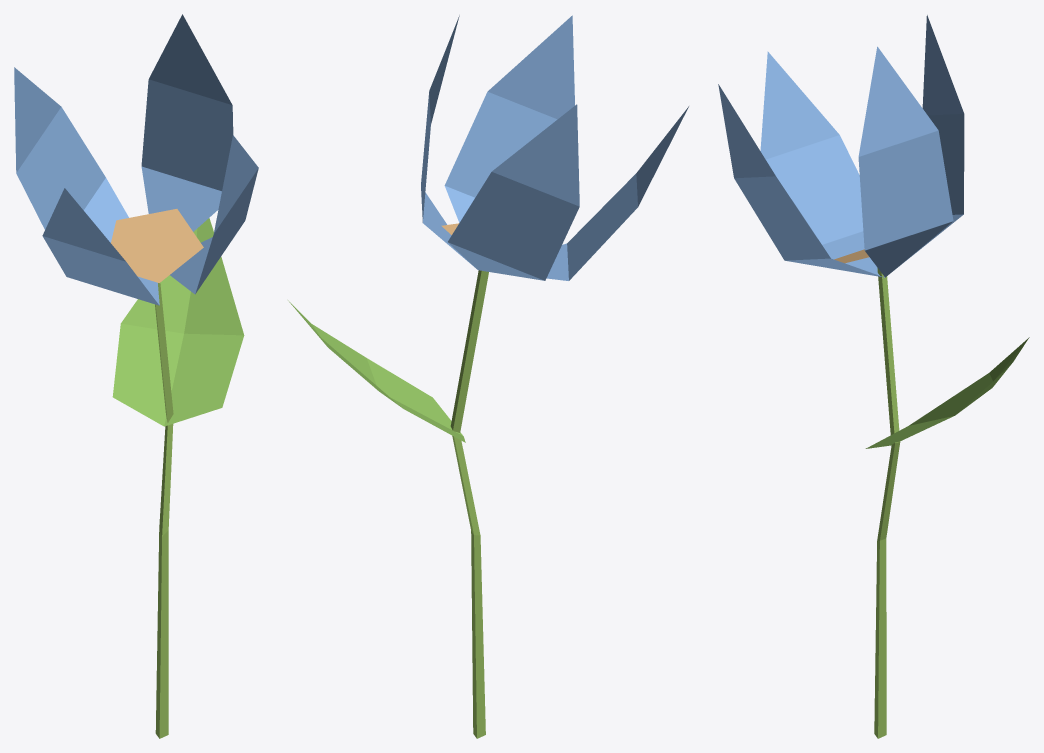
The model's file is Flower_a_OneS_07.fbx.
The picture shows the model from 3 angles, left to right: view 1: azimuth 30°, elevation 25°; view 2: azimuth 150°, elevation 25°; view 3: azimuth 270°, elevation 25°; orthographic projection. The views are drawn at different scales.
Parts seen in each view (by area): view 1: Flower_a_OneS_07; view 2: Flower_a_OneS_07; view 3: Flower_a_OneS_07.
Part boxes in pixels (x1,y1,x2,y2): Flower_a_OneS_07: (14, 14, 258, 738); Flower_a_OneS_07: (288, 15, 688, 738); Flower_a_OneS_07: (718, 15, 1029, 738).
Bounding box in the file's own units: 0.3234 × 0.8251 × 0.3333.
